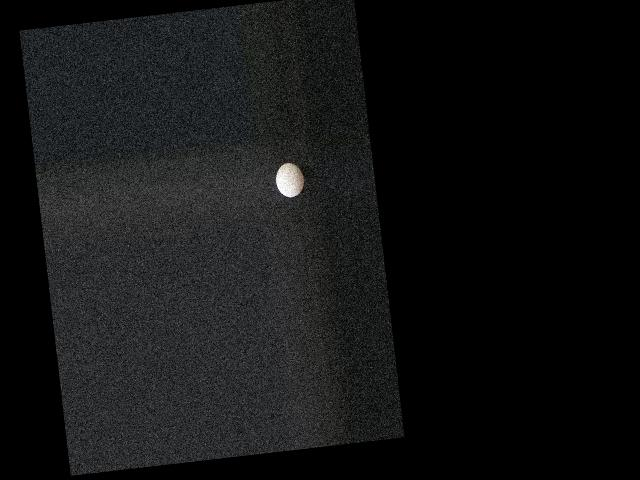egg: (274, 160, 305, 197)
